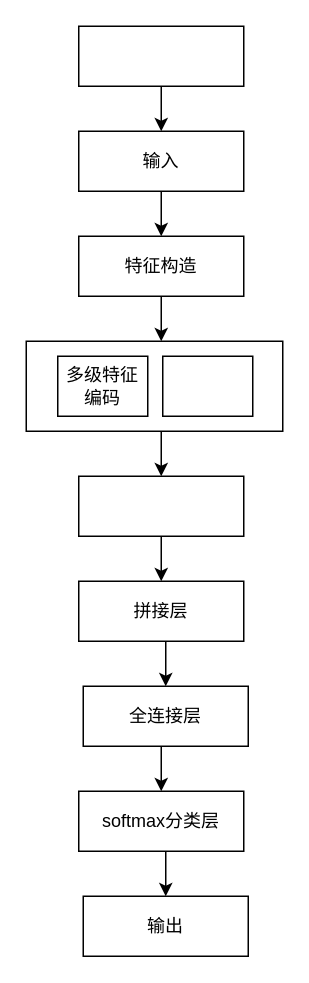
Image size: 309x983. Some labels were removed from this diagram. The shapes that lost their labels are listed below. From the top down, each one's centre as x and y in pixels, then its label:
At [160,55]: "开始".
At [207,385]: "其他特征编码".
At [160,505]: "嵌入层".
